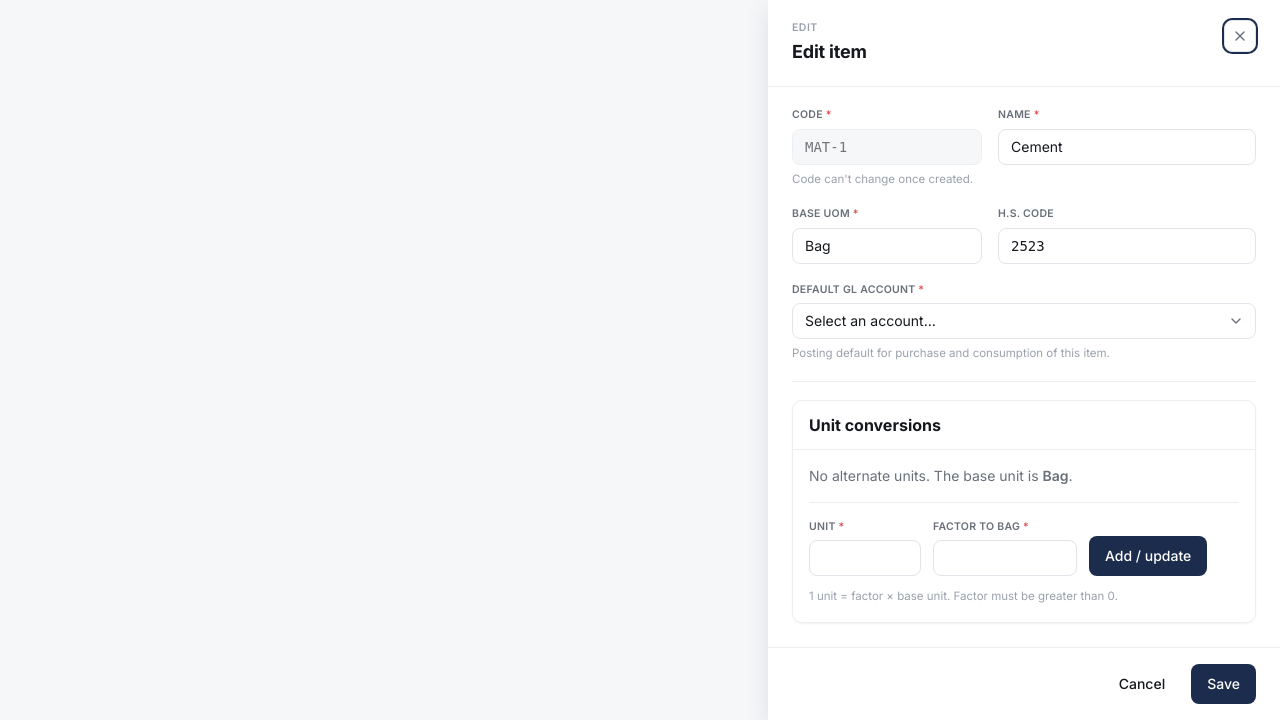
Scenario: ItemFormDrawer — validation + mapping › maps CROSS_COMPANY_REFERENCE to the default-account field (FR-MAS-027)
Click the button with test id "item-save". click: [1224, 684]
box: [1191, 664, 1256, 704]
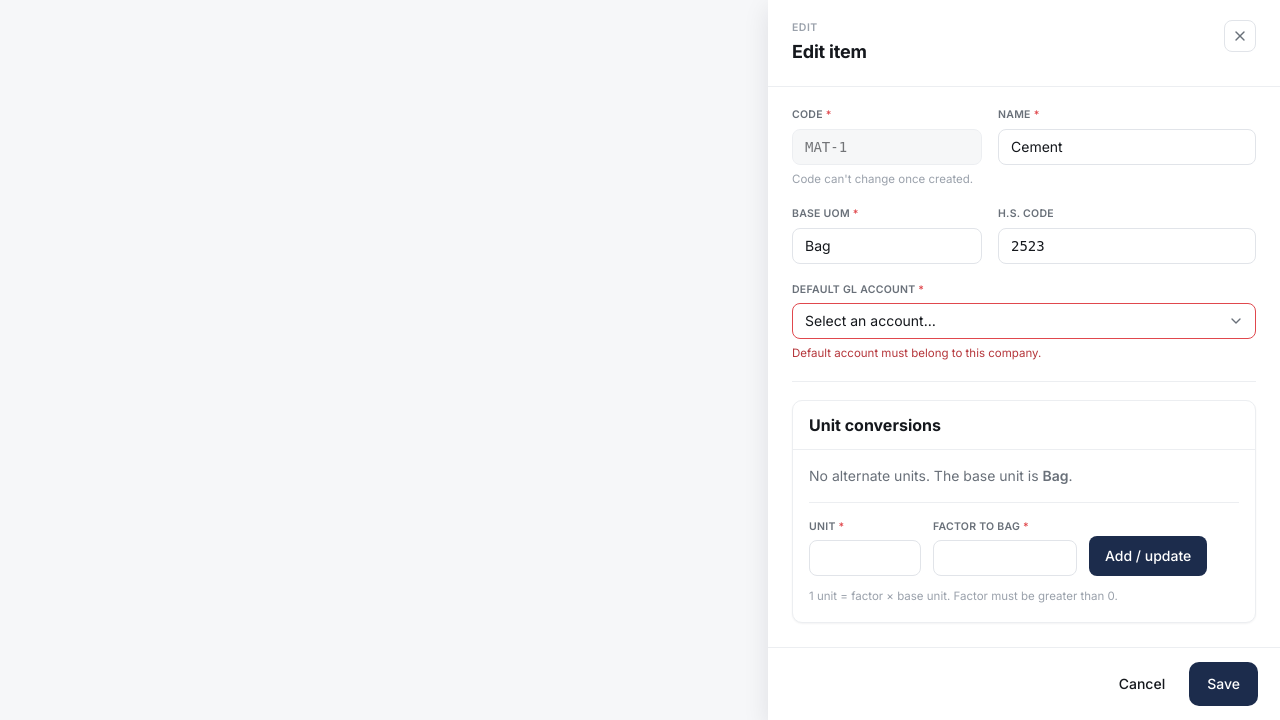
Expected: the text with test id "item-account-error" reads "Default account must belong to this company.", [792, 346, 1041, 360]
